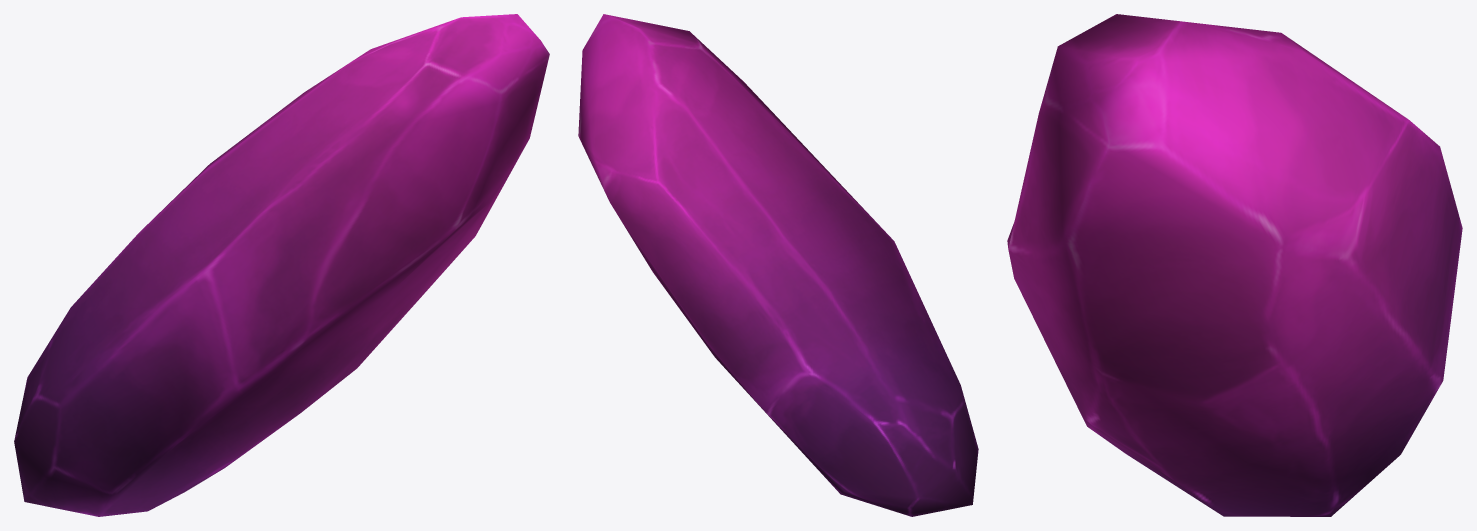
Rendered from gema_violeta_entera.glb.
3 renders of one model, left to right at view 1: azimuth 30°, elevation 25°; view 2: azimuth 150°, elevation 25°; view 3: azimuth 270°, elevation 25°, orthographic. The views are drawn at different scales.
Visible parts, largest first — view 1: Gema_violeta_entera; view 2: Gema_violeta_entera; view 3: Gema_violeta_entera.
Part boxes in pixels (left/top/right/bottom): Gema_violeta_entera: left=14, top=14, right=549, bottom=516; Gema_violeta_entera: left=578, top=14, right=978, bottom=516; Gema_violeta_entera: left=1007, top=14, right=1462, bottom=516.
Bounding box in the file's own units: 0.082 × 0.07 × 0.0401.
1 material, 1 textured.
